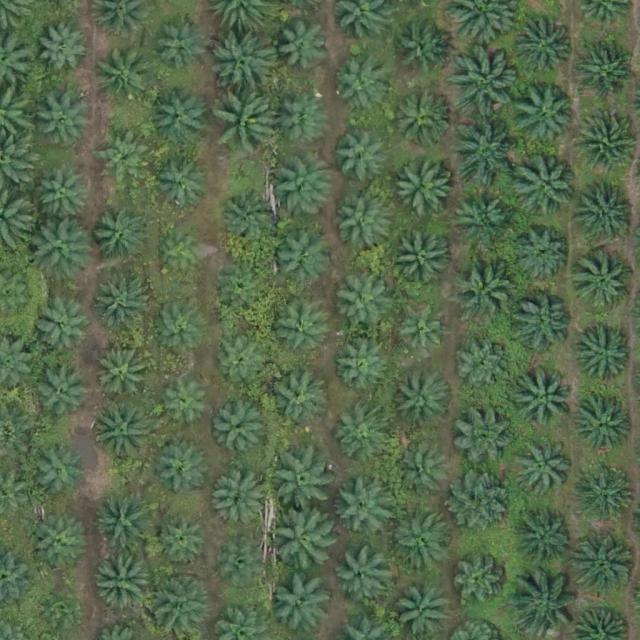Healthy: (268, 508, 338, 579), (452, 47, 522, 118), (448, 117, 518, 187), (275, 573, 338, 636), (92, 403, 155, 466), (94, 491, 157, 554), (220, 187, 283, 250), (275, 450, 338, 513), (390, 509, 453, 572), (392, 154, 455, 217), (512, 83, 575, 146), (515, 157, 578, 220), (514, 507, 577, 570), (572, 394, 635, 457), (574, 111, 637, 174), (575, 41, 638, 104), (147, 573, 209, 636), (93, 552, 155, 615), (33, 218, 95, 281), (147, 89, 210, 151), (216, 94, 278, 157), (272, 158, 335, 220), (266, 372, 328, 435), (332, 270, 394, 333), (332, 474, 395, 536), (391, 229, 453, 292), (390, 86, 452, 149), (452, 187, 514, 250), (454, 256, 516, 319), (453, 405, 515, 468), (452, 470, 514, 533), (516, 367, 578, 430), (512, 439, 574, 502), (573, 534, 635, 597), (577, 463, 640, 525), (574, 323, 637, 385), (574, 251, 636, 314), (511, 15, 573, 78), (210, 34, 273, 96), (152, 154, 214, 216), (510, 293, 572, 355), (95, 211, 150, 267), (334, 548, 389, 603), (35, 519, 90, 574), (39, 171, 94, 226), (34, 303, 89, 358), (36, 366, 91, 421), (31, 446, 86, 501), (97, 51, 152, 106), (97, 130, 152, 185), (95, 278, 150, 333), (160, 375, 215, 430), (218, 264, 273, 319), (214, 406, 269, 461), (212, 473, 267, 528), (274, 94, 329, 149), (274, 232, 329, 287), (272, 302, 327, 357), (335, 130, 390, 185), (335, 197, 390, 252), (333, 343, 388, 398), (332, 409, 387, 464), (393, 446, 448, 501), (397, 370, 452, 425), (456, 339, 511, 394), (515, 227, 570, 282), (394, 21, 449, 76), (330, 61, 385, 116), (151, 21, 206, 76), (453, 557, 507, 612), (394, 586, 449, 640), (37, 95, 91, 150), (97, 349, 151, 404), (156, 514, 210, 569), (156, 440, 210, 495), (153, 298, 207, 353), (215, 338, 269, 393), (393, 303, 447, 358), (275, 18, 329, 73), (38, 20, 92, 75)
Small: (159, 232, 206, 279), (221, 542, 268, 589), (41, 590, 80, 629)
